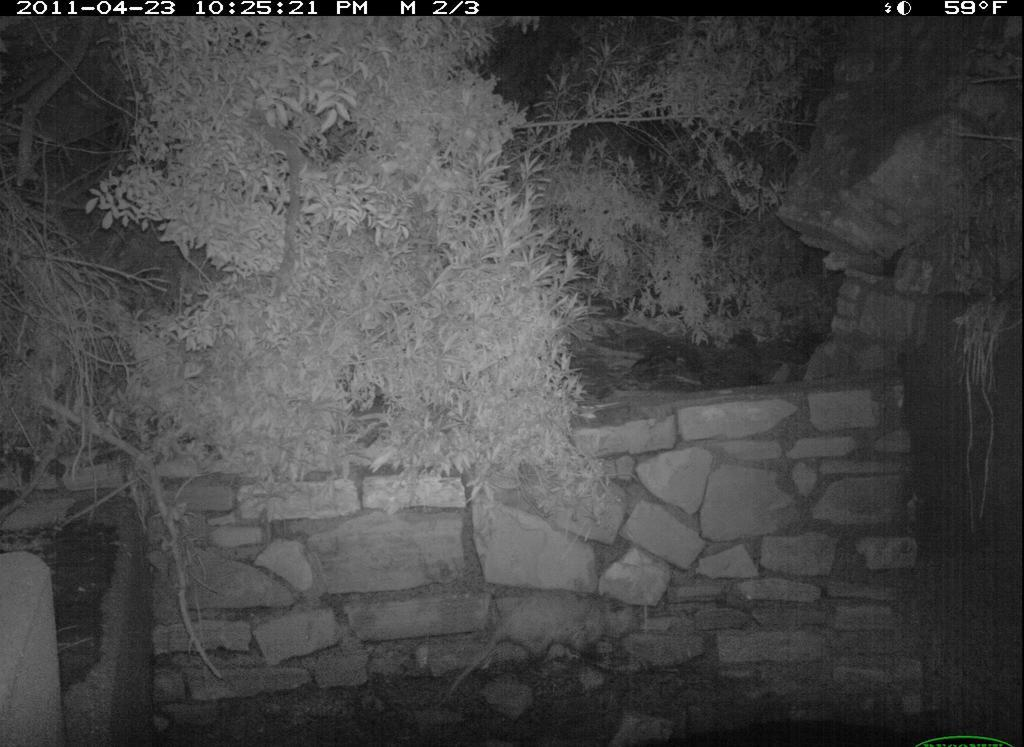opossum: (437, 579, 635, 711)
